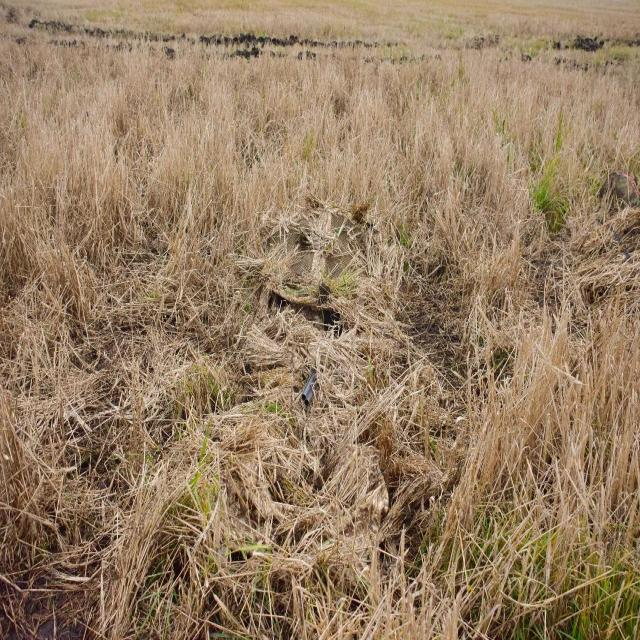Camouflage: (230, 194, 405, 408)
